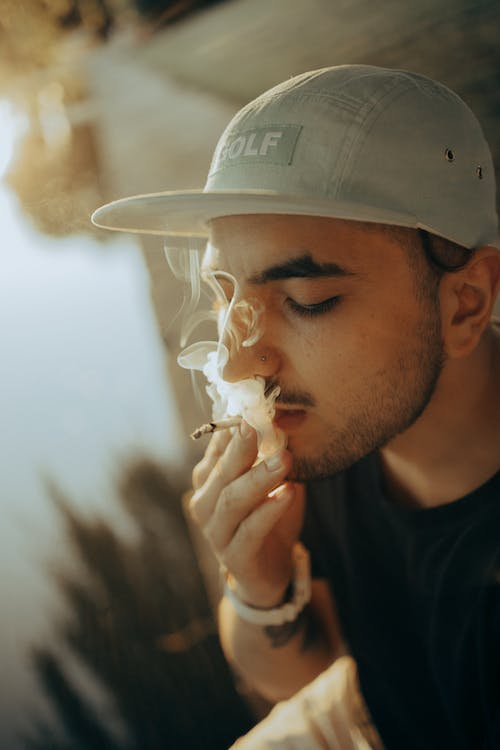cigarette: (189, 413, 253, 442)
